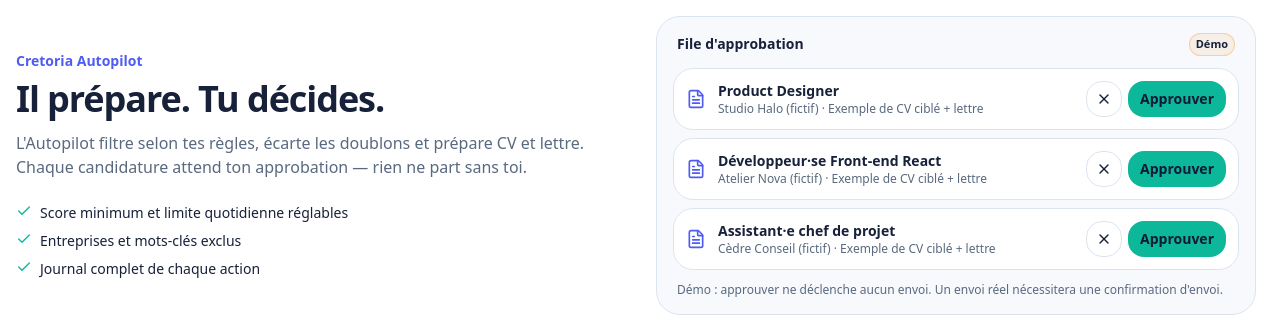
Scenario: Parcours de démonstration › approuve uniquement dans la file fictive sans déclarer un envoi
This screenshot has width=1273, height=332.
Click the button "Approuver" in the row of "Product Designer".
click(1177, 98)  # box [1128,80,1226,116]
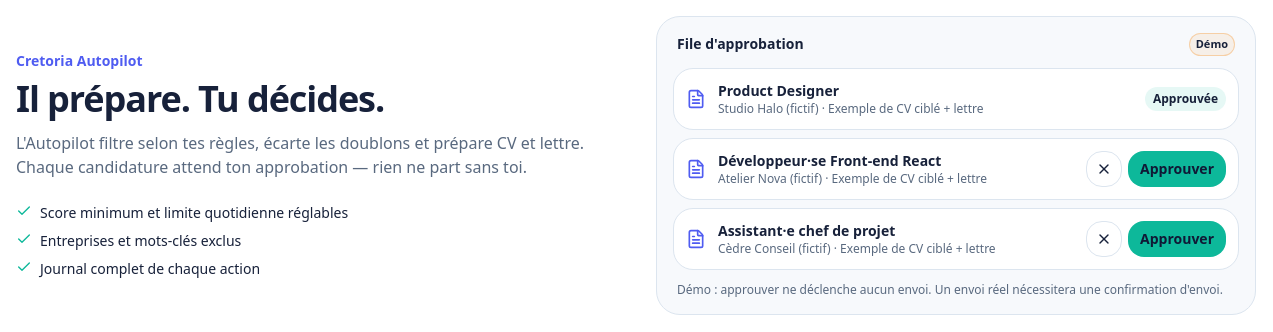
Expected: the number of buttons "Approuver" is 2, [1128,150,1226,186]; [1128,220,1226,256]
Expected: the text "Approuvée" is shown, [1145,86,1226,110]
